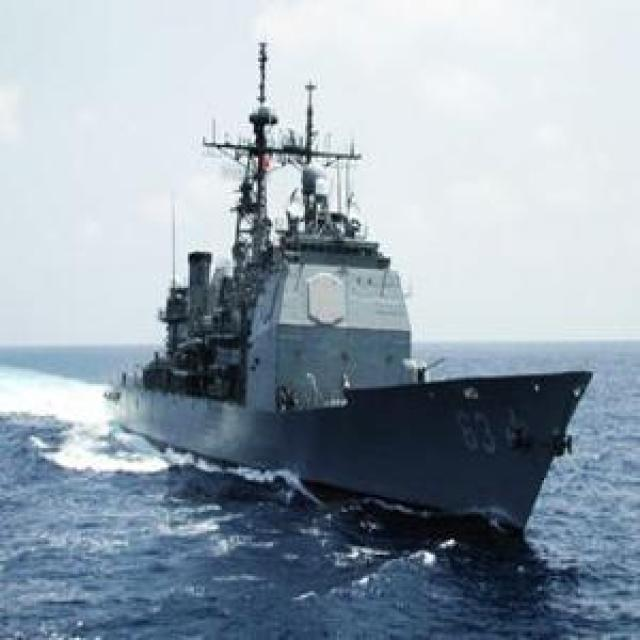navalvessels: (100, 31, 596, 544)
